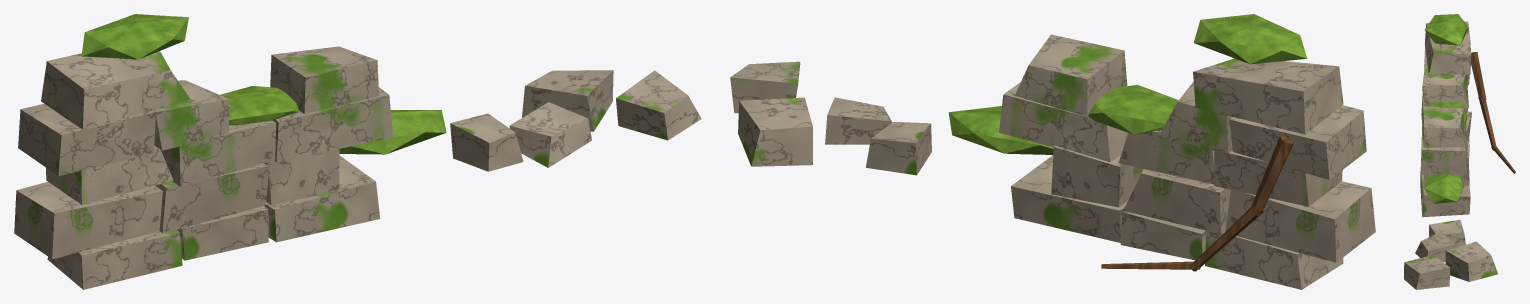
The model's file is ruin_wall.glb.
3 renders of one model, left to right at view 1: azimuth 30°, elevation 25°; view 2: azimuth 150°, elevation 25°; view 3: azimuth 270°, elevation 25°, orthographic. The views are drawn at different scales.
Visible parts, largest first — view 1: ruin_wall; view 2: ruin_wall; view 3: ruin_wall.
Boxes of the visible parts, x1,y1,x2,y2 form: ruin_wall: (14, 14, 701, 289); ruin_wall: (730, 14, 1375, 289); ruin_wall: (1404, 14, 1515, 289).
Size of the model in its own units: 8.78 by 3.07 by 2.32.
3 materials, 3 textured.
